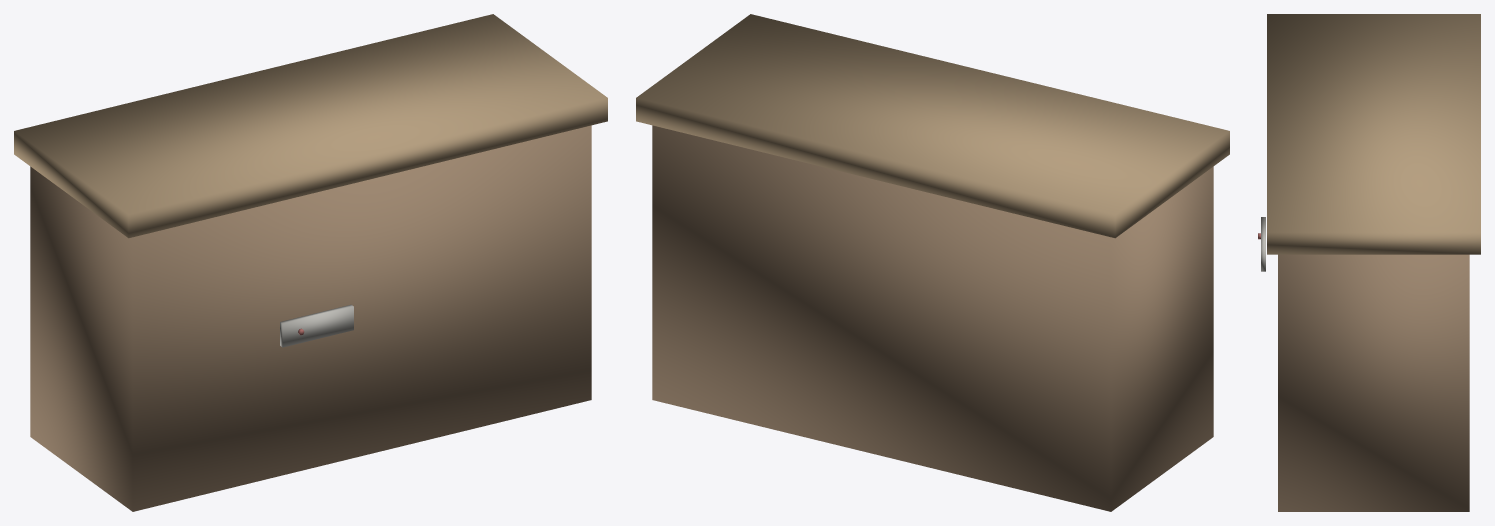
File: pawn_counter__compact.glb
The picture shows the model from 3 angles, left to right: view 1: azimuth 30°, elevation 25°; view 2: azimuth 150°, elevation 25°; view 3: azimuth 270°, elevation 25°; orthographic projection. The views are drawn at different scales.
Parts seen in each view (by area): view 1: world; view 2: world; view 3: world.
Boxes of the visible parts, x1,y1,x2,y2 form: world: [14, 14, 607, 511]; world: [636, 14, 1229, 511]; world: [1258, 14, 1480, 511].
Bounding box in the file's own units: 1.58 × 0.9579 × 0.6803.
